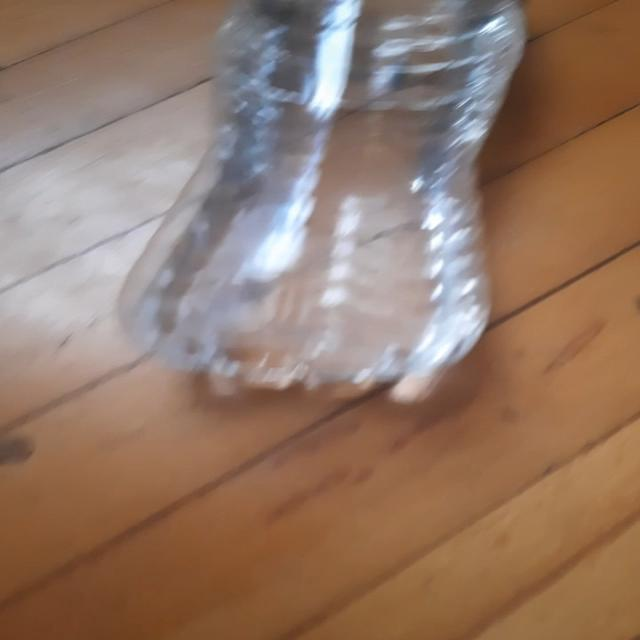Plastic: (114, 0, 529, 401)
